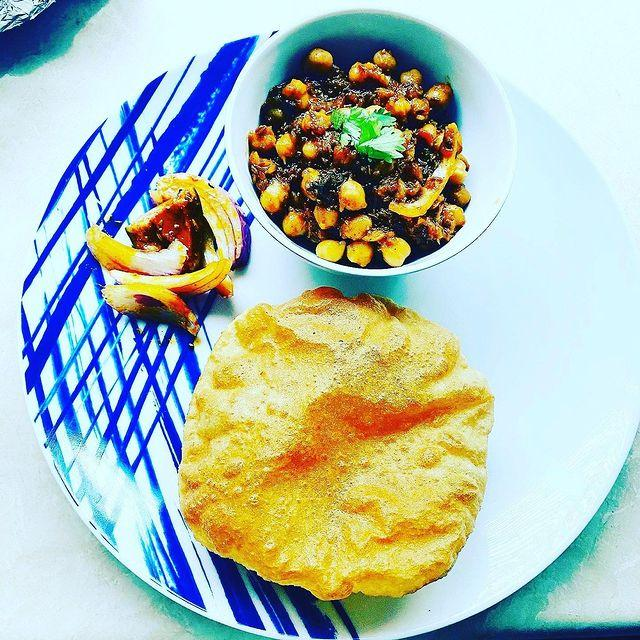Chole: (232, 28, 525, 281)
